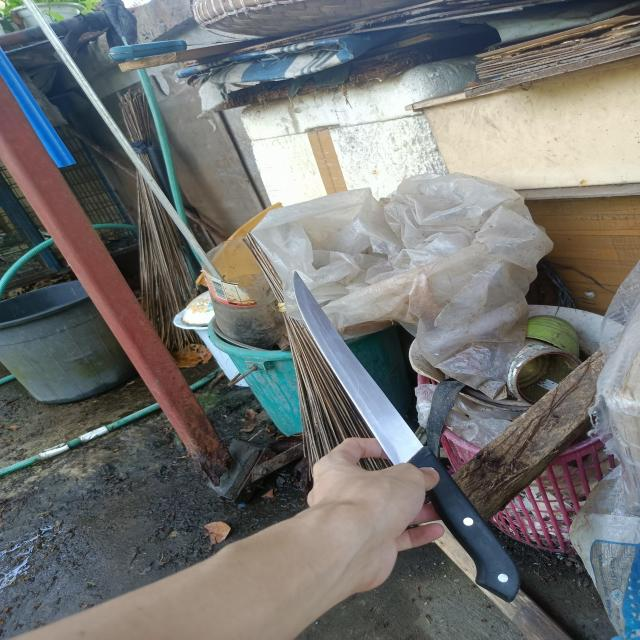knife: (293, 271, 520, 600)
